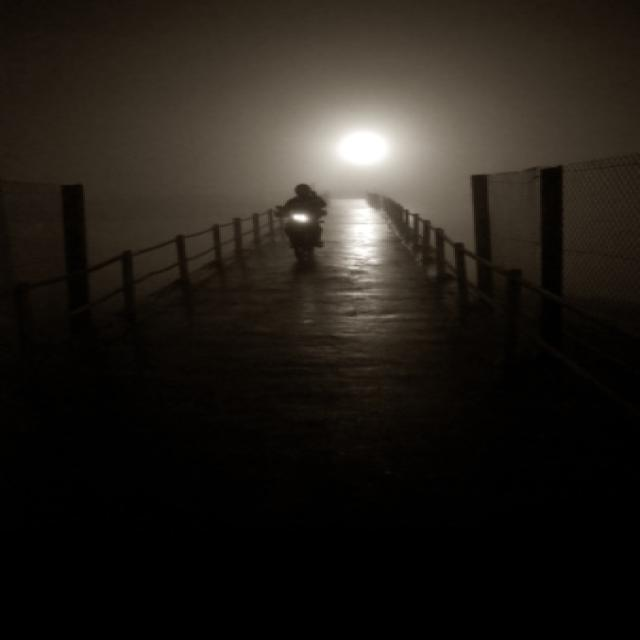Motorbike: (281, 185, 339, 266)
